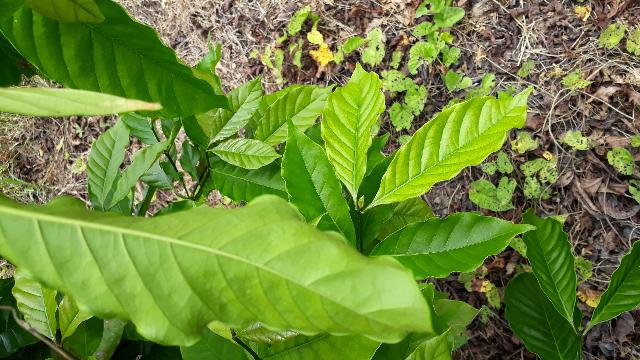healthy: (0, 191, 436, 342)
